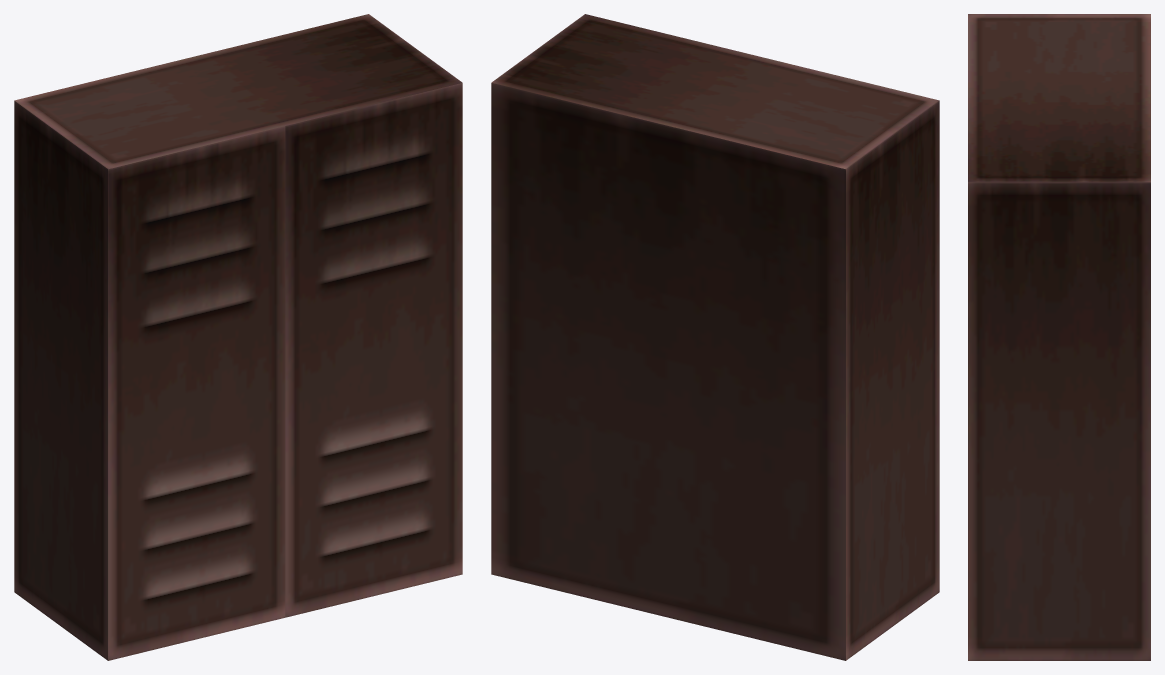
File: locker.fbx
3 views of the same model, side by side, from view 1: azimuth 30°, elevation 25°; view 2: azimuth 150°, elevation 25°; view 3: azimuth 270°, elevation 25° (orthographic). The views are drawn at different scales.
Visible parts, largest first — view 1: locker; view 2: locker; view 3: locker.
Boxes of the visible parts, <box> form: locker: <box>14,14,462,660</box>; locker: <box>491,14,939,660</box>; locker: <box>968,14,1150,660</box>.
Bounding box in the file's own units: 2.18 × 2.89 × 1.
